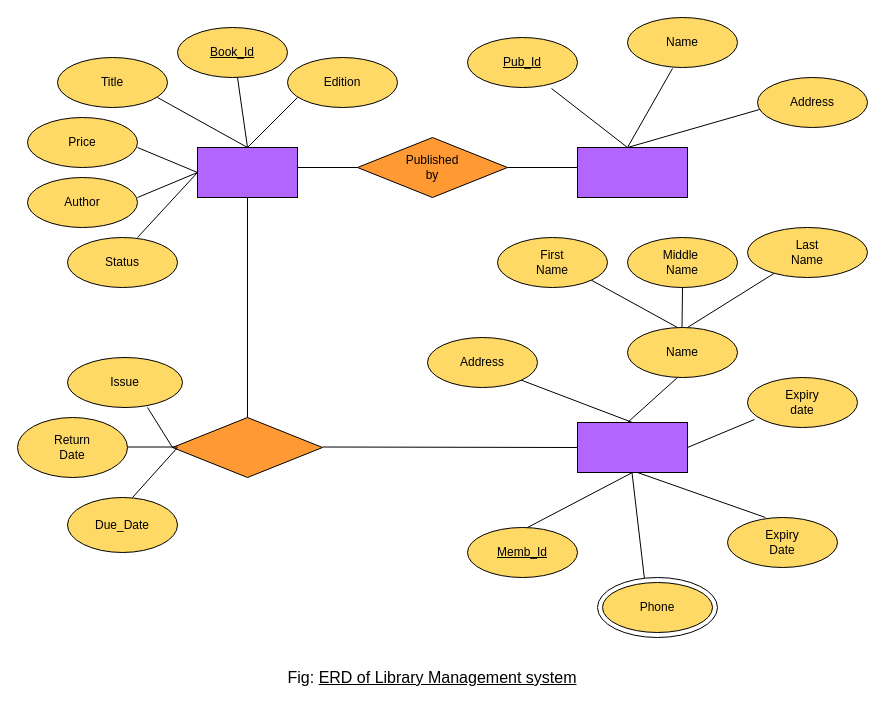
Image size: 885x705. Some labels were removed from this diagram. The centre of each missing label's shape, as x and y in pixels:
"Book" belongs at point 247,172.
"Borrowed by" belongs at point 247,447.
"Member" belongs at point 632,447.
"Publisher" belongs at point 632,172.
